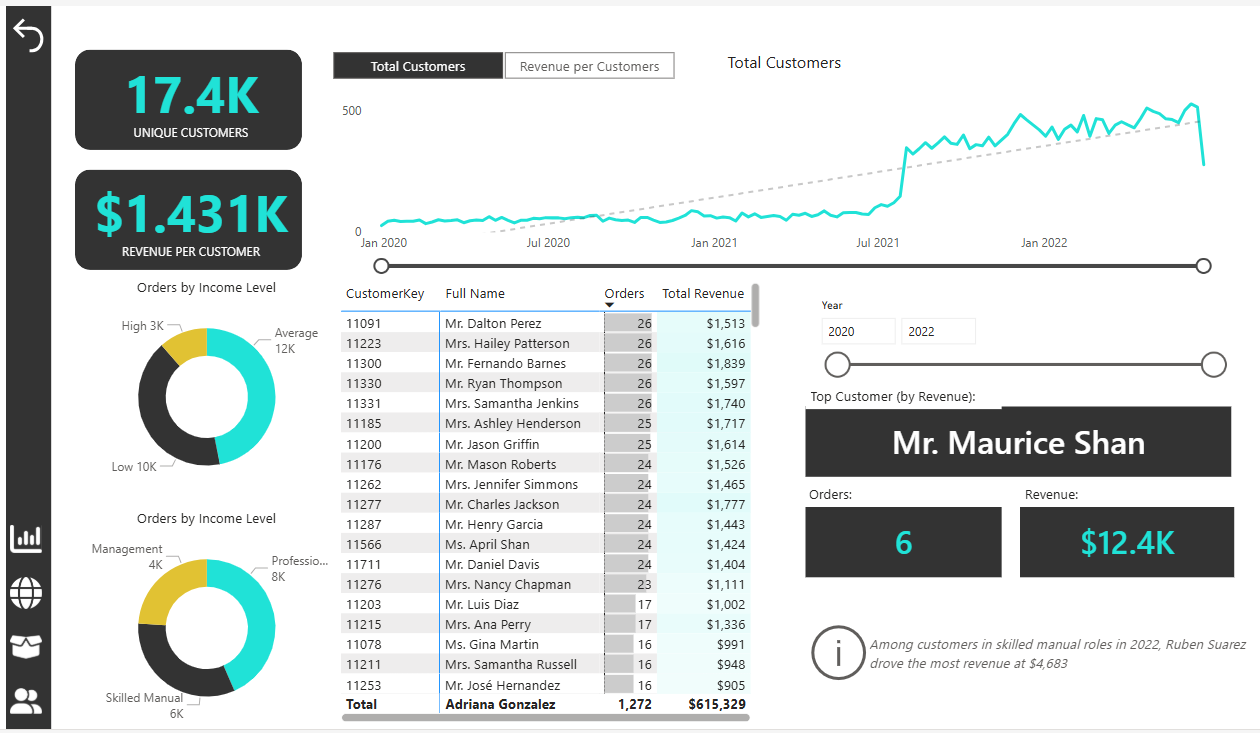

Layout of this report page (visuals, bound fields, positions):
{"tool":"powerbi","page":{"name":"Customer Detail","canvas":[1280,720],"ordinal":3},"visuals":[{"type":"shape","box":[0,0,45,720],"z":0},{"type":"shape","box":[69,44,226.2,100],"z":1000},{"type":"actionButton","box":[0,510.2,99.4,39.8],"z":1000,"group":"g1"},{"type":"shape","box":[69.4,162.2,226.2,100],"z":2000},{"type":"actionButton","box":[0,563.8,99.4,39.8],"z":2000,"group":"g1"},{"type":"card","fields":{"Values":["Measure Table (2).Average Revenue per Customers"]},"box":[69,151.8,230.3,117.6],"z":3000},{"type":"actionButton","box":[0,617.3,99.4,39.8],"z":3000,"group":"g1"},{"type":"card","fields":{"Values":["Measure Table (2).Total Customers"]},"box":[69,33.7,230.3,117.6],"z":4000},{"type":"actionButton","box":[0,670.9,99.4,39.8],"z":4000,"group":"g1"},{"type":"donutChart","title":"Orders by Income Level","fields":{"Category":["Customer Lookup.Income Level"],"Y":["Measure Table (2).Total Orders"]},"box":[69.9,270.2,258.9,219.2],"z":6000},{"type":"lineChart","fields":{"Y":["Measure Table (2).Total Customers"],"Category":["Calendar Lookup.Date Hierarchy.Start of Year","Calendar Lookup.Date Hierarchy.Start of Month","Calendar Lookup.Date Hierarchy.Start of Week"]},"box":[328,44.7,892.8,225.3],"z":6500},{"type":"donutChart","title":"Orders by Income Level","fields":{"Y":["Measure Table (2).Total Orders"],"Category":["Customer Lookup.Occupation"]},"box":[69.9,500.8,258.9,219.2],"z":7000},{"type":"pivotTable","fields":{"Rows":["Customer Lookup.CustomerKey"],"Values":["Min(Customer Lookup.Full Name)","Measure Table (2).Total Orders","Measure Table (2).Total Revenue"]},"box":[328.8,270.2,427.1,447.9],"z":8000},{"type":"card","fields":{"Values":["Min(Customer Lookup.Full Name)"]},"box":[796.7,399,424.2,69.7],"z":9000},{"type":"card","fields":{"Values":["Measure Table (2).Total Orders (Customer Details)"]},"box":[796.7,498.6,195.2,69.7],"z":10000},{"type":"card","fields":{"Values":["Measure Table (2).Total Revenue (Customer Details)"]},"box":[1009.8,498.6,213.1,69.7],"z":11000},{"type":"textbox","box":[796.7,373.1,195.2,27.9],"z":12000},{"type":"textbox","box":[794.7,470.7,195.2,27.9],"z":13000},{"type":"textbox","box":[1009.8,470.7,195.2,27.9],"z":14000},{"type":"slicer","fields":{"Values":["Calendar Lookup.Year"]},"box":[798.7,286.8,424.2,85.6],"z":15000},{"type":"actionButton","box":[794.4,609.5,445,69.1],"z":16000},{"type":"actionButton","box":[0,2,44.7,54.9],"z":17000},{"type":"slicer","fields":{"Values":["Customer Metric Selection.Customer Metric Selection"]},"box":[299.8,38.1,389.3,36.4],"z":17500},{"type":"group","id":"g1","title":"Navigations","box":[0,510.2,99.4,200.4],"z":18000}]}

Visuals, with their boxes on the page's 1280x720 design canvas (x1, y1, x2, y2). These are canvas units, not pixel positions in the 1260x733 screenshot, which may show the page scaled, cropped or inside an application window:
shape: region(0, 0, 45, 720)
shape: region(69, 44, 295, 144)
actionButton: region(0, 510, 99, 550)
shape: region(69, 162, 296, 262)
actionButton: region(0, 564, 99, 604)
card - Measure Table (2).Average Revenue per Customers: region(69, 152, 299, 269)
actionButton: region(0, 617, 99, 657)
card - Measure Table (2).Total Customers: region(69, 34, 299, 151)
actionButton: region(0, 671, 99, 711)
"Orders by Income Level" donutChart: region(70, 270, 329, 489)
lineChart - Measure Table (2).Total Customers x Calendar Lookup.Date Hierarchy.Start of Year: region(328, 45, 1221, 270)
"Orders by Income Level" donutChart: region(70, 501, 329, 720)
pivotTable - Customer Lookup.CustomerKey x Min(Customer Lookup.Full Name): region(329, 270, 756, 718)
card - Min(Customer Lookup.Full Name): region(797, 399, 1221, 469)
card - Measure Table (2).Total Orders (Customer Details): region(797, 499, 992, 568)
card - Measure Table (2).Total Revenue (Customer Details): region(1010, 499, 1223, 568)
textbox: region(797, 373, 992, 401)
textbox: region(795, 471, 990, 499)
textbox: region(1010, 471, 1205, 499)
slicer - Calendar Lookup.Year: region(799, 287, 1223, 372)
actionButton: region(794, 610, 1239, 679)
actionButton: region(0, 2, 45, 57)
slicer - Customer Metric Selection.Customer Metric Selection: region(300, 38, 689, 74)
"Navigations" group: region(0, 510, 99, 711)
